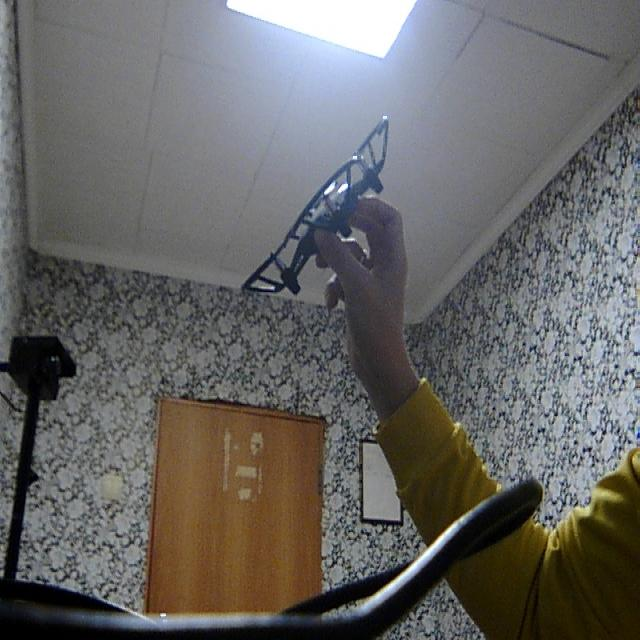drone: (240, 110, 403, 316)
